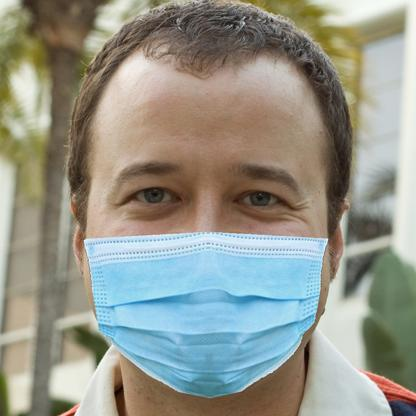mask: (80, 232, 330, 398)
